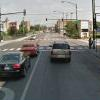Car: (2, 43, 34, 85)
